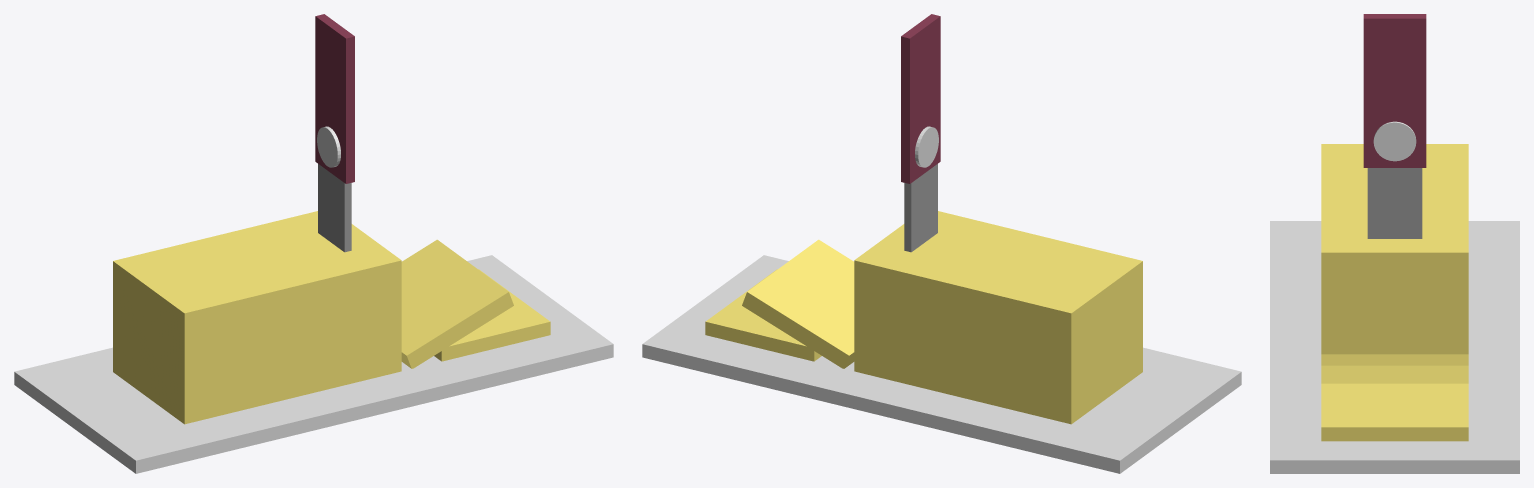
Rendered from buttercube.fbx.
3 renders of one model, left to right at view 1: azimuth 30°, elevation 25°; view 2: azimuth 150°, elevation 25°; view 3: azimuth 270°, elevation 25°, orthographic. The views are drawn at different scales.
Visible parts, largest first — view 1: Cube.001, Cube.002, Cube.004, Cube.006, Cube.003, Cube.005, Cylinder.002; view 2: Cube.001, Cube.002, Cube.004, Cube.006, Cube.003, Cube.005, Cylinder.002; view 3: Cube.002, Cube.001, Cube.003, Cube.006, Cube.004, Cube.005, Cylinder.002.
Boxes of the visible parts, box(x1,y1,x2,y2) form: Cube.001: box(113, 211, 401, 424); Cube.002: box(14, 255, 613, 473); Cube.004: box(401, 239, 513, 368); Cube.006: box(315, 14, 354, 183); Cube.003: box(434, 269, 550, 361); Cube.005: box(318, 164, 351, 252); Cylinder.002: box(317, 126, 340, 167); Cube.001: box(854, 211, 1142, 424); Cube.002: box(642, 255, 1241, 473); Cube.004: box(742, 239, 854, 368); Cube.006: box(901, 14, 940, 183); Cube.003: box(705, 269, 821, 361); Cube.005: box(904, 164, 937, 252); Cylinder.002: box(915, 126, 938, 167); Cube.002: box(1270, 221, 1519, 473); Cube.001: box(1321, 144, 1468, 354); Cube.003: box(1321, 383, 1468, 441); Cube.006: box(1363, 14, 1426, 167); Cube.004: box(1321, 354, 1468, 383); Cube.005: box(1367, 168, 1422, 238); Cylinder.002: box(1373, 121, 1416, 161).
Bounding box in the file's own units: 265 × 180 × 117.
